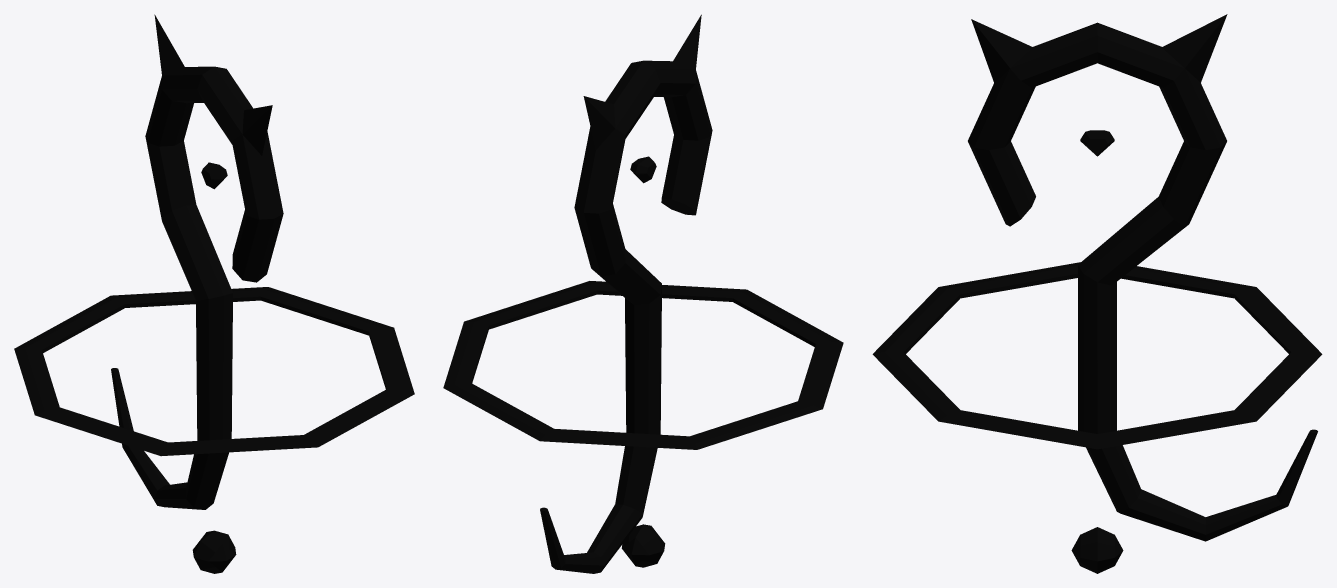
The model's file is catscape_quest-nyan_mark.glb.
3 views of the same model, side by side, from view 1: azimuth 30°, elevation 25°; view 2: azimuth 150°, elevation 25°; view 3: azimuth 270°, elevation 25° (orthographic). The views are drawn at different scales.
Parts seen in each view (by area): view 1: Quest-Nyan Mark, Quest-Nyan Mark Ring, Quest-Nyan Mark Ball; view 2: Quest-Nyan Mark, Quest-Nyan Mark Ring, Quest-Nyan Mark Ball; view 3: Quest-Nyan Mark, Quest-Nyan Mark Ring, Quest-Nyan Mark Ball, Quest-Nyan Mark Nose.
Boxes of the visible parts, x1,y1,x2,y2 form: Quest-Nyan Mark: (111,14,283,509); Quest-Nyan Mark Ring: (14,287,414,456); Quest-Nyan Mark Ball: (192,530,236,573); Quest-Nyan Mark: (540,14,712,573); Quest-Nyan Mark Ring: (443,281,843,449); Quest-Nyan Mark Ball: (621,524,665,567); Quest-Nyan Mark: (968,14,1317,541); Quest-Nyan Mark Ring: (872,262,1322,449); Quest-Nyan Mark Ball: (1071,527,1123,573); Quest-Nyan Mark Nose: (1080,130,1114,156).
Bounding box in the file's own units: 5.2 × 7.14 × 5.2.
Materials: 4 (4 with a texture image).
